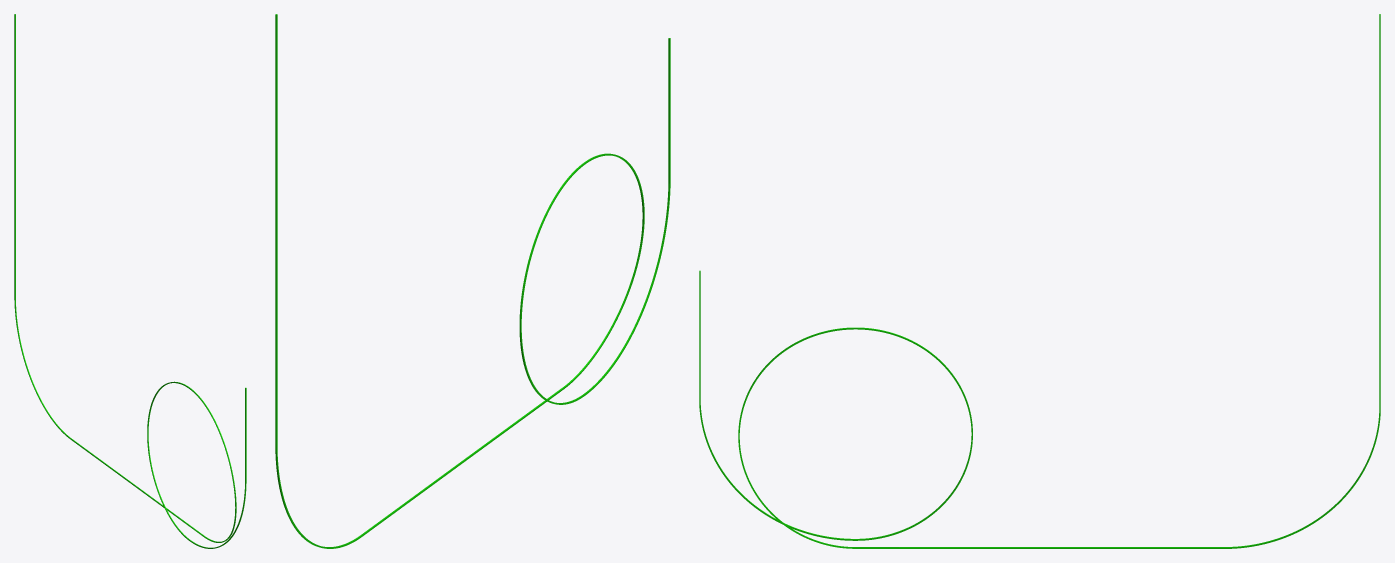
File: pista4.fbx
The picture shows the model from 3 angles, left to right: view 1: azimuth 30°, elevation 25°; view 2: azimuth 150°, elevation 25°; view 3: azimuth 270°, elevation 25°; orthographic projection. The views are drawn at different scales.
Visible parts, largest first — view 1: Box008, Box002, Box001, Box004, Box007; view 2: Box008, Box002, Box001, Box004, Box005; view 3: Box002, Box001.
Part boxes in pixels (x1,y1,x2,y2): Box008: (14,14,15,296); Box002: (147,381,189,540); Box001: (189,388,236,542); Box004: (70,438,203,536); Box007: (14,296,71,439); Box008: (275,14,277,444); Box002: (519,163,584,404); Box001: (563,153,644,388); Box004: (361,387,563,536); Box005: (584,178,670,395); Box002: (855,327,972,540); Box001: (738,327,855,548).
Size of the model in its own units: 484 by 12023 by 13866.
